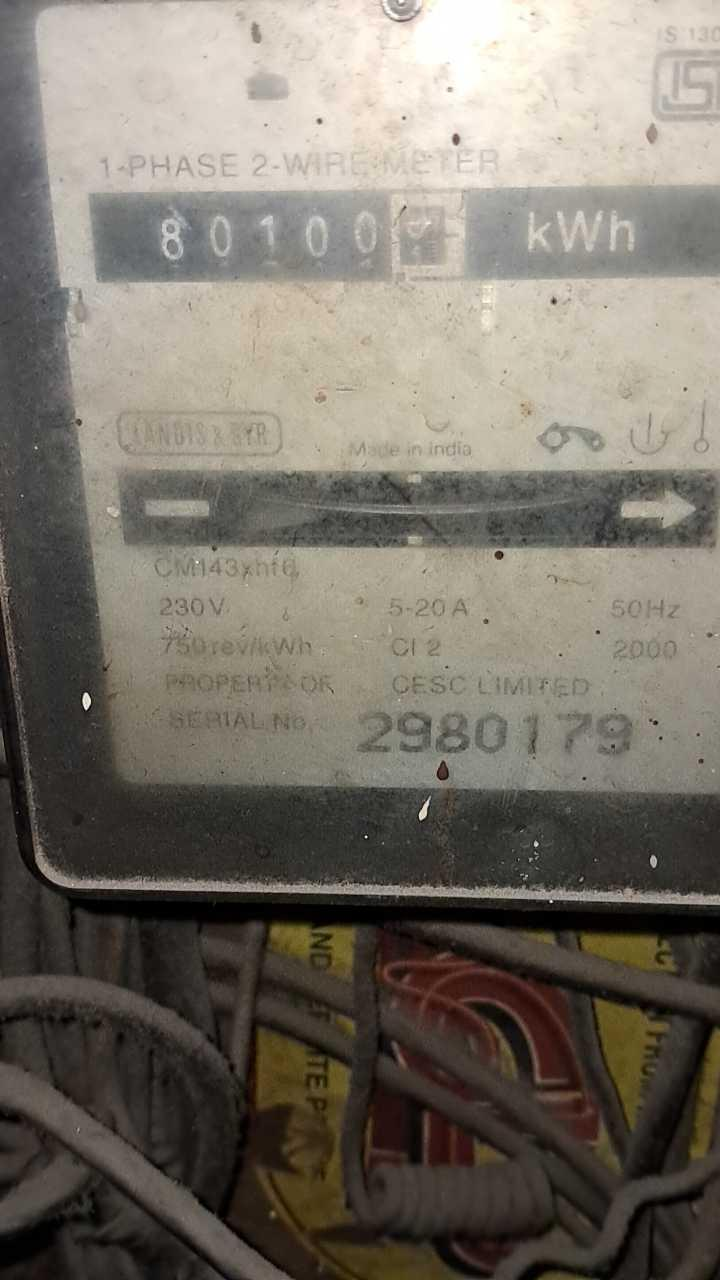meter_readings: (126, 196, 487, 281)
serial_number: (349, 707, 639, 761)
